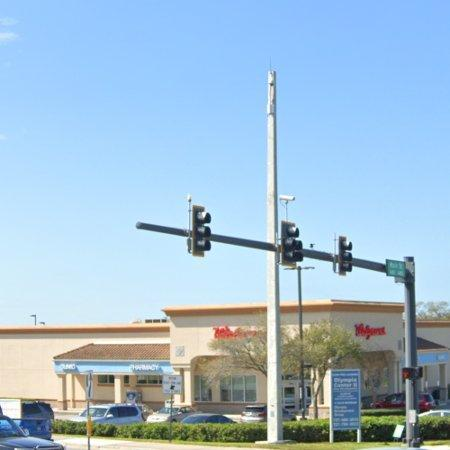traffic lights: (190, 204, 212, 258)
